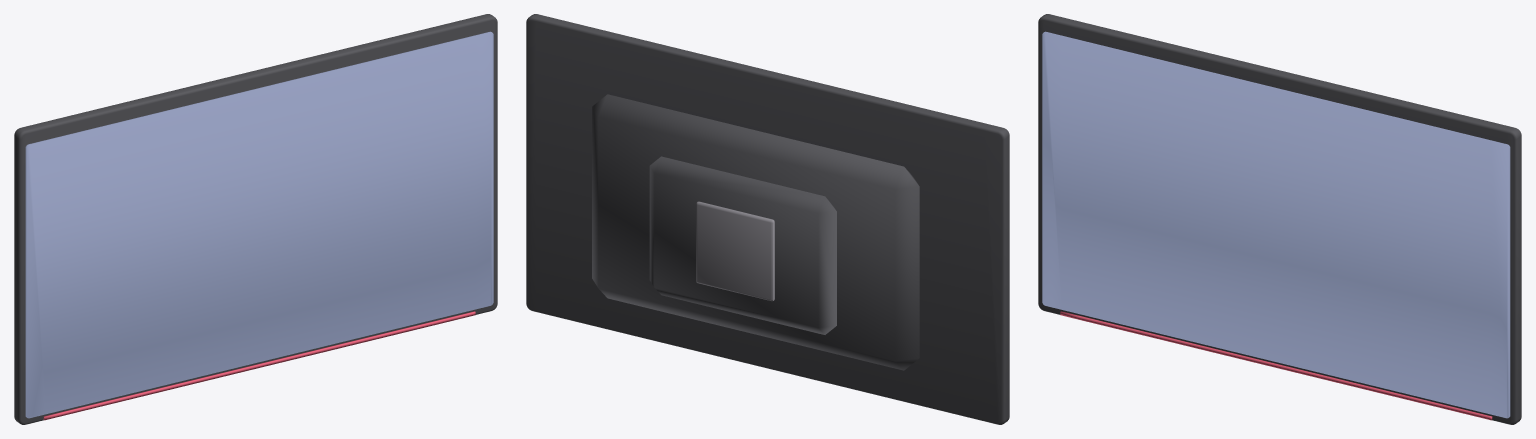
Rendered from monitor-panel.glb.
3 renders of one model, left to right at view 1: azimuth 30°, elevation 25°; view 2: azimuth 150°, elevation 25°; view 3: azimuth 330°, elevation 25°, orthographic.
Parts seen in each view (by area): view 1: monitor-panel; view 2: monitor-panel; view 3: monitor-panel.
Boxes of the visible parts, x1,y1,x2,y2 form: monitor-panel: (14,14,497,424); monitor-panel: (526,14,1009,424); monitor-panel: (1038,14,1521,424).
Bounding box in the file's own units: 0.614 × 0.36 × 0.084.
